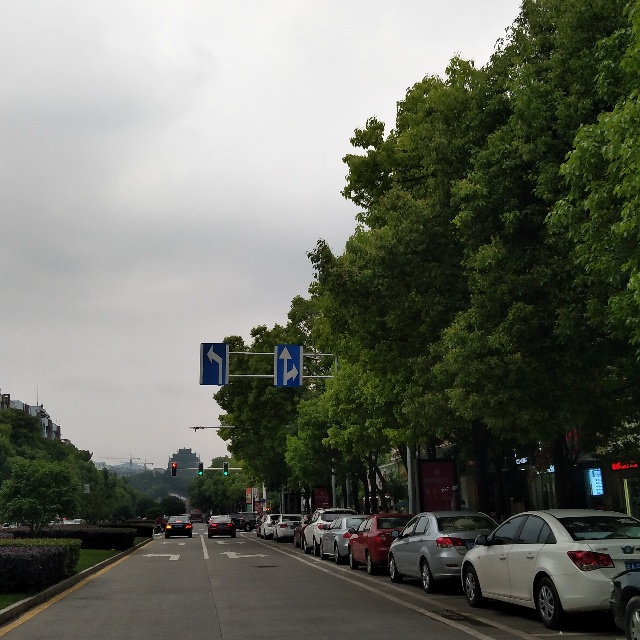left: (200, 343, 229, 386)
